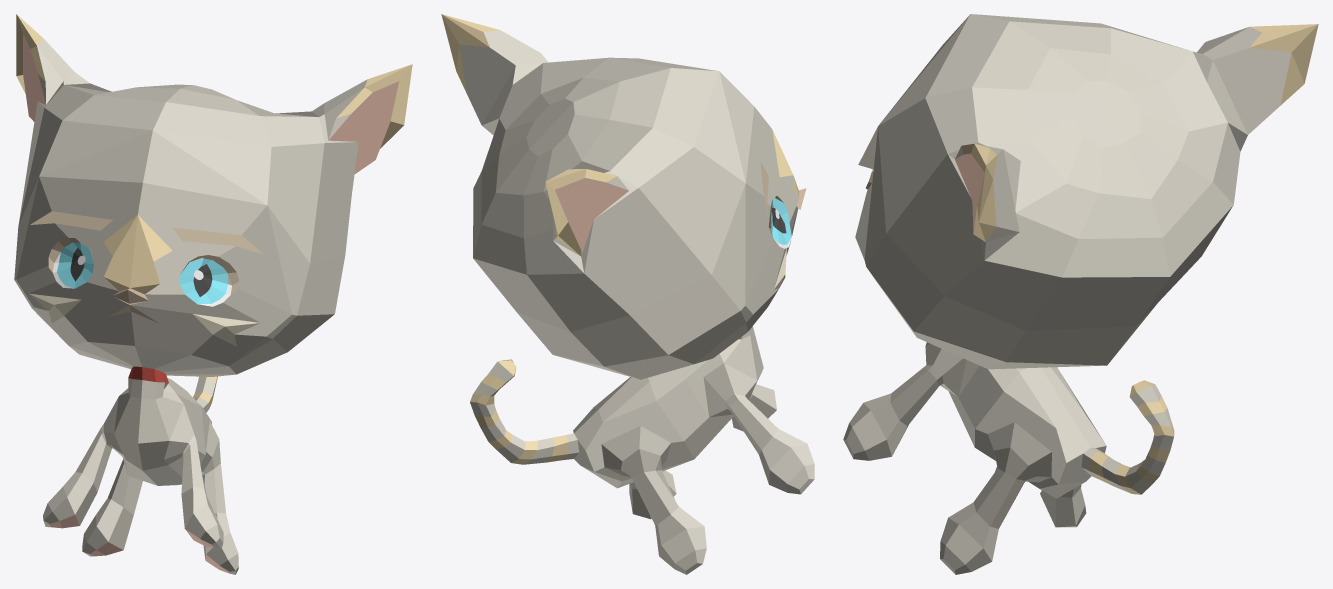
File: Cat.fbx
3 views of the same model, side by side, from view 1: azimuth 30°, elevation 25°; view 2: azimuth 150°, elevation 25°; view 3: azimuth 270°, elevation 25° (orthographic). The views are drawn at different scales.
Visible parts, largest first — view 1: BRUNO; view 2: BRUNO; view 3: BRUNO.
Part boxes in pixels (<box>): BRUNO: <box>14,14,412,574</box>; BRUNO: <box>441,14,814,574</box>; BRUNO: <box>843,14,1318,574</box>.
Bounding box in the file's own units: 205 × 249 × 203.
